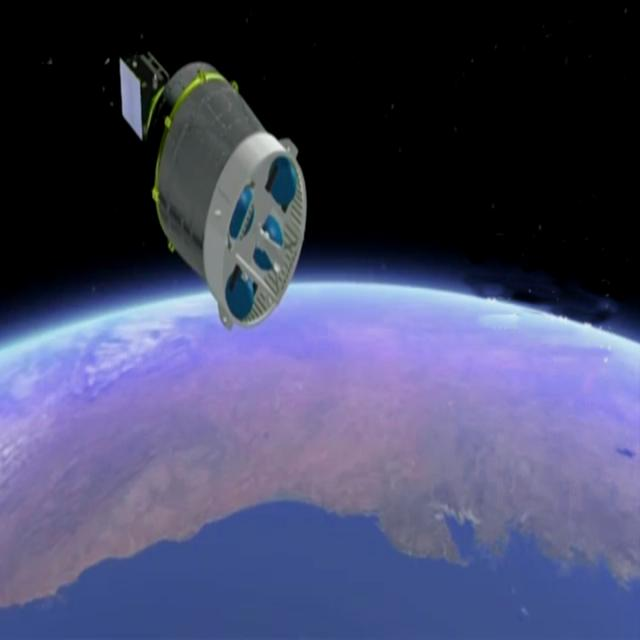medium_debris: (104, 39, 318, 339)
